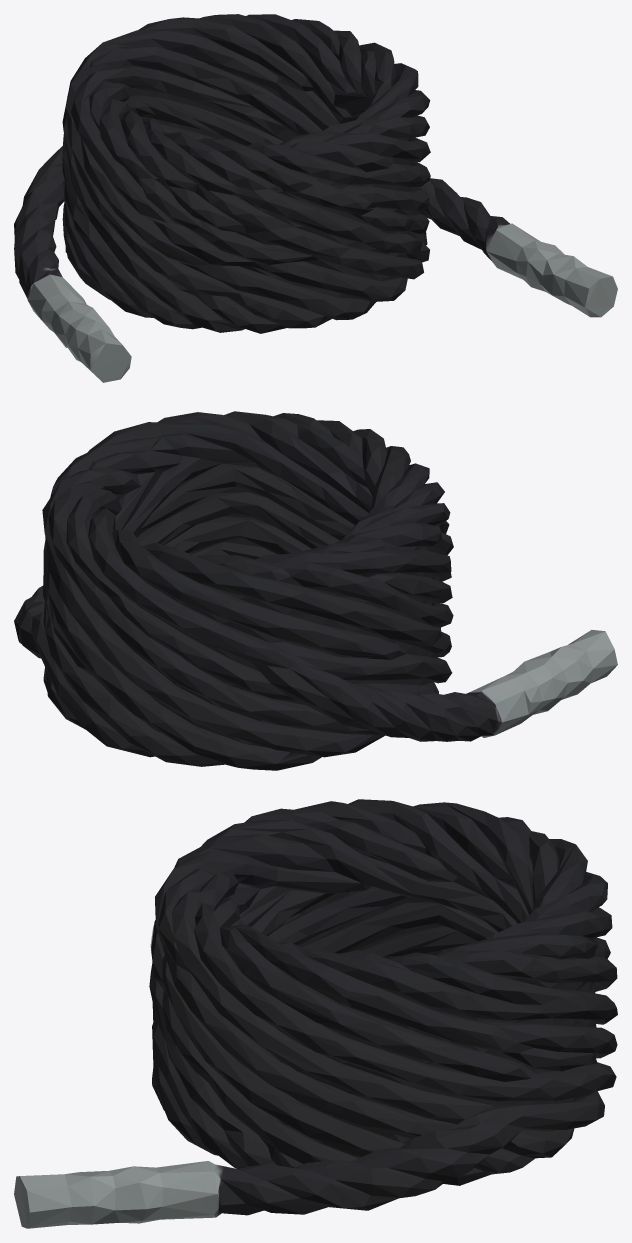
The model's file is battle_rope_coil.glb.
The picture shows the model from 3 angles, top to bottom: view 1: azimuth 30°, elevation 25°; view 2: azimuth 150°, elevation 25°; view 3: azimuth 270°, elevation 25°; orthographic projection. The views are drawn at different scales.
Visible parts, largest first — view 1: battle_rope_coil; view 2: battle_rope_coil; view 3: battle_rope_coil.
Boxes of the visible parts, x1,y1,x2,y2 form: battle_rope_coil: (14, 14, 617, 382); battle_rope_coil: (14, 411, 617, 770); battle_rope_coil: (14, 799, 617, 1228).
Size of the model in its own units: 0.6 by 0.2212 by 0.5387.
Materials: 1 (1 with a texture image).
